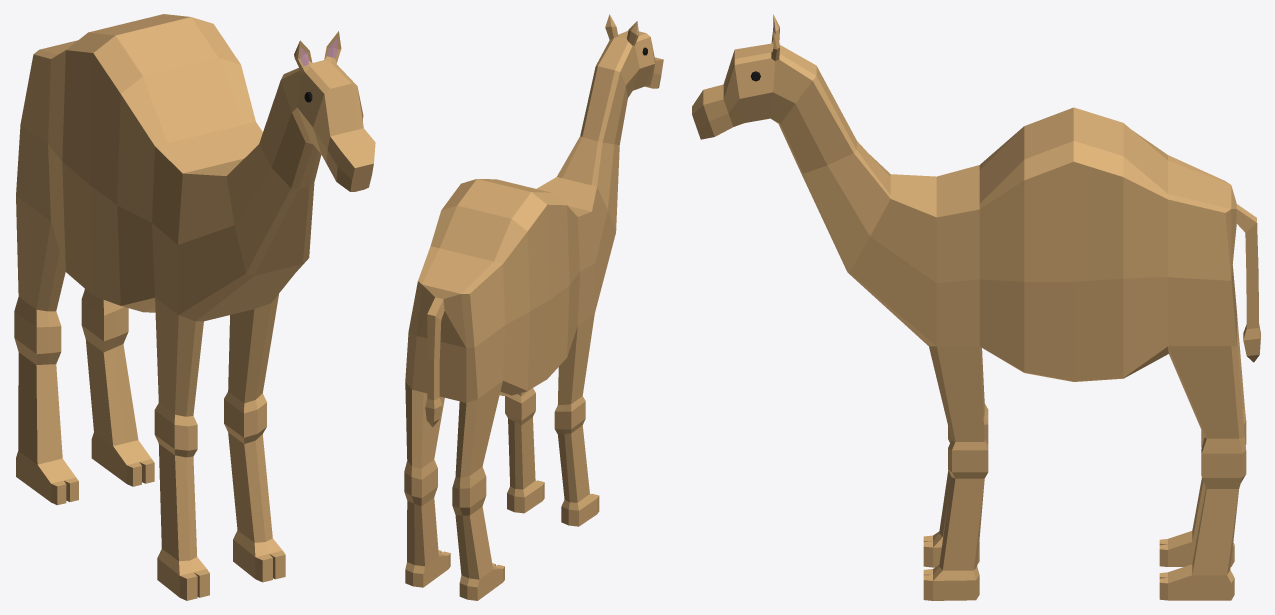
File: Camel_01.fbx
3 renders of one model, left to right at view 1: azimuth 30°, elevation 25°; view 2: azimuth 150°, elevation 25°; view 3: azimuth 270°, elevation 25°, orthographic. The views are drawn at different scales.
Visible parts, largest first — view 1: Camel_01; view 2: Camel_01; view 3: Camel_01.
Part boxes in pixels (left/top/right/bottom): Camel_01: left=14, top=14, right=375, bottom=600; Camel_01: left=404, top=14, right=663, bottom=600; Camel_01: left=692, top=14, right=1260, bottom=600.
Bounding box in the file's own units: 3.75 × 17.28 × 16.03.
